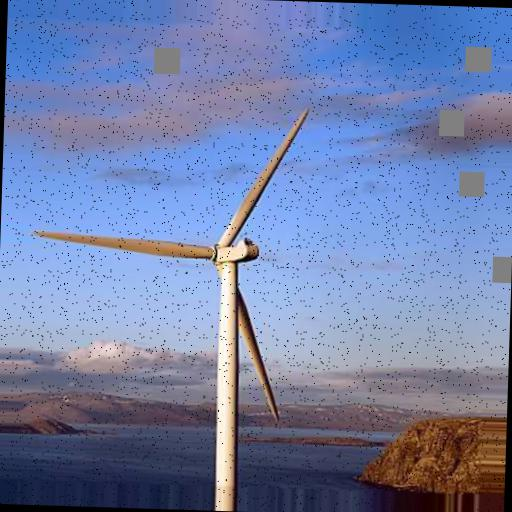wind turbine: (30, 108, 312, 479)
